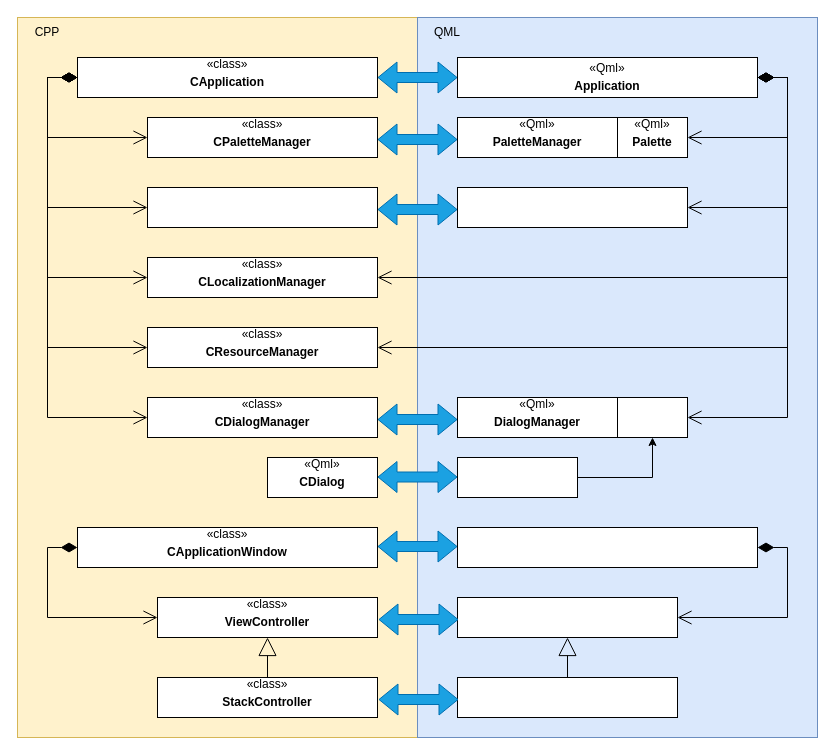
The diagram is 835 pixels wide and 755 high, and some of its shapes have lost their labels. The box of each missing label's shape, as (x1, y1, x2, y2) in pixels:
«class» CScreen: (146, 186, 378, 228)
«Qml» ApplicationWindow: (456, 526, 758, 568)
«Qml» AppScreen: (456, 186, 688, 228)
«Qml» DialogController: (456, 456, 578, 498)
«Qml» DialogView: (616, 396, 688, 438)
«Qml» Stack: (456, 676, 678, 718)
«Qml» View: (456, 596, 678, 638)
